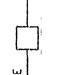Cable Termination Box: (10, 22, 45, 55)
